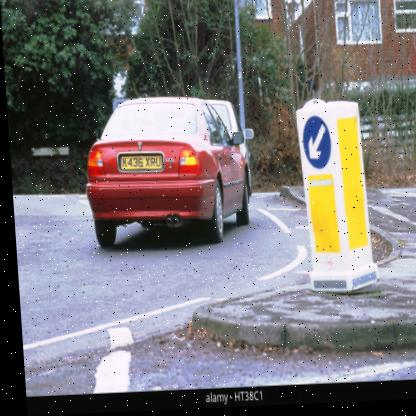Keep left: (294, 115, 331, 178)
